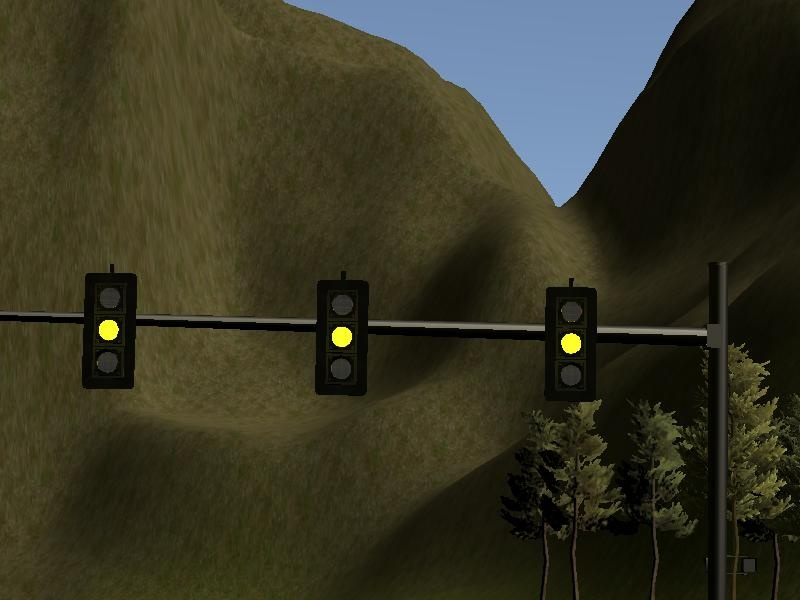YELLOW: (81, 269, 135, 391), (313, 274, 367, 396), (544, 281, 598, 403)
